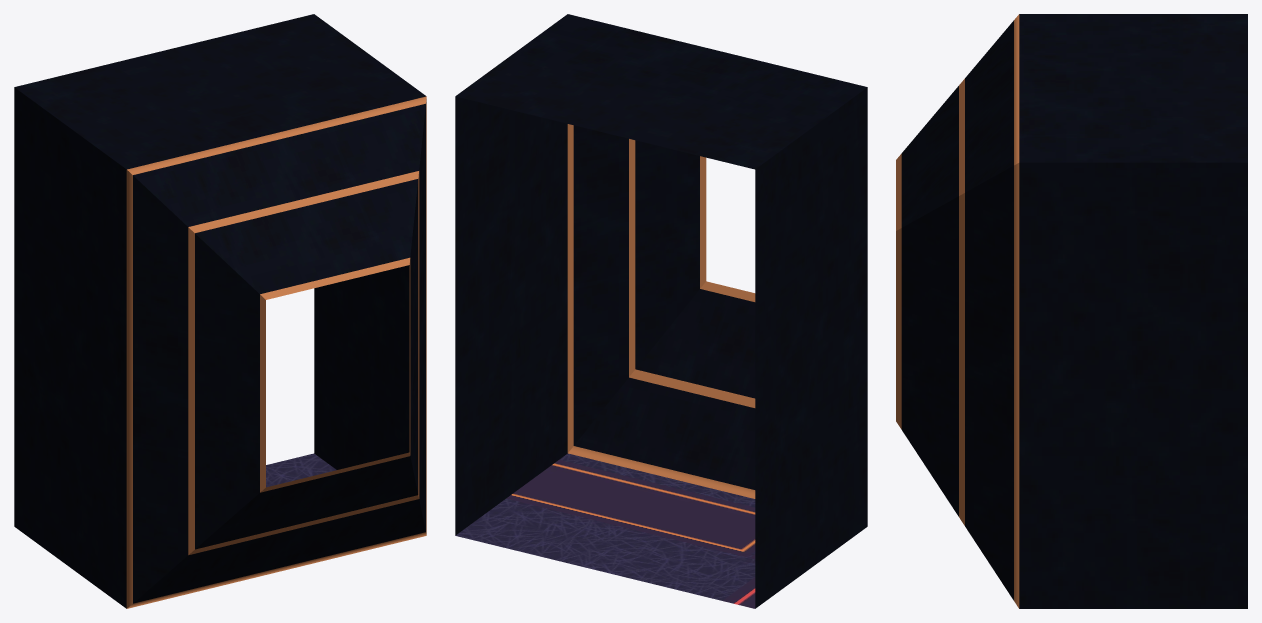
File: exit-art.glb
The picture shows the model from 3 angles, left to right: view 1: azimuth 30°, elevation 25°; view 2: azimuth 150°, elevation 25°; view 3: azimuth 270°, elevation 25°; orthographic projection.
Visible parts, largest first — view 1: Exit_Art; view 2: Exit_Art; view 3: Exit_Art.
Boxes of the visible parts, x1,y1,x2,y2 form: Exit_Art: (14,14,426,608); Exit_Art: (455,14,867,608); Exit_Art: (896,14,1247,608).
Size of the model in its own units: 5 by 7 by 5.
3 materials, 3 textured.
